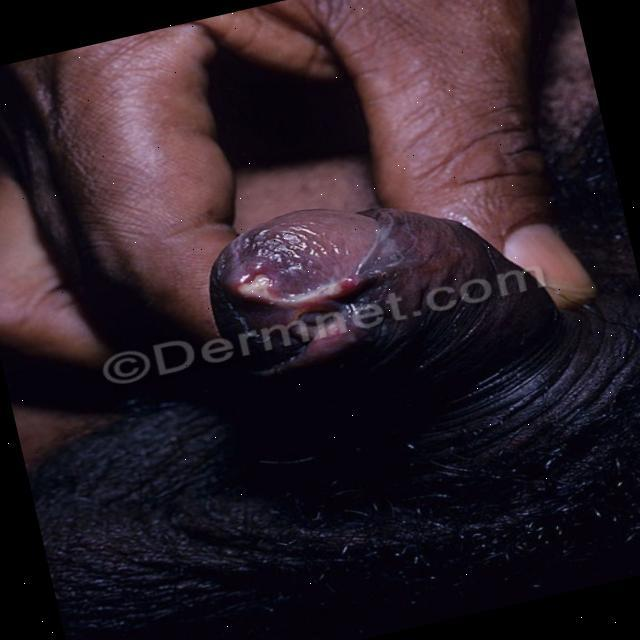Shingles: (216, 252, 354, 355)
